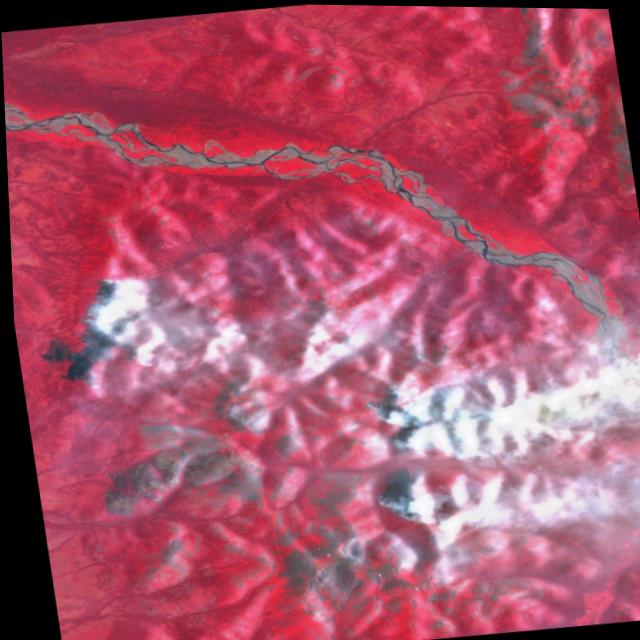fire: (358, 366, 517, 532), (59, 269, 144, 355)
